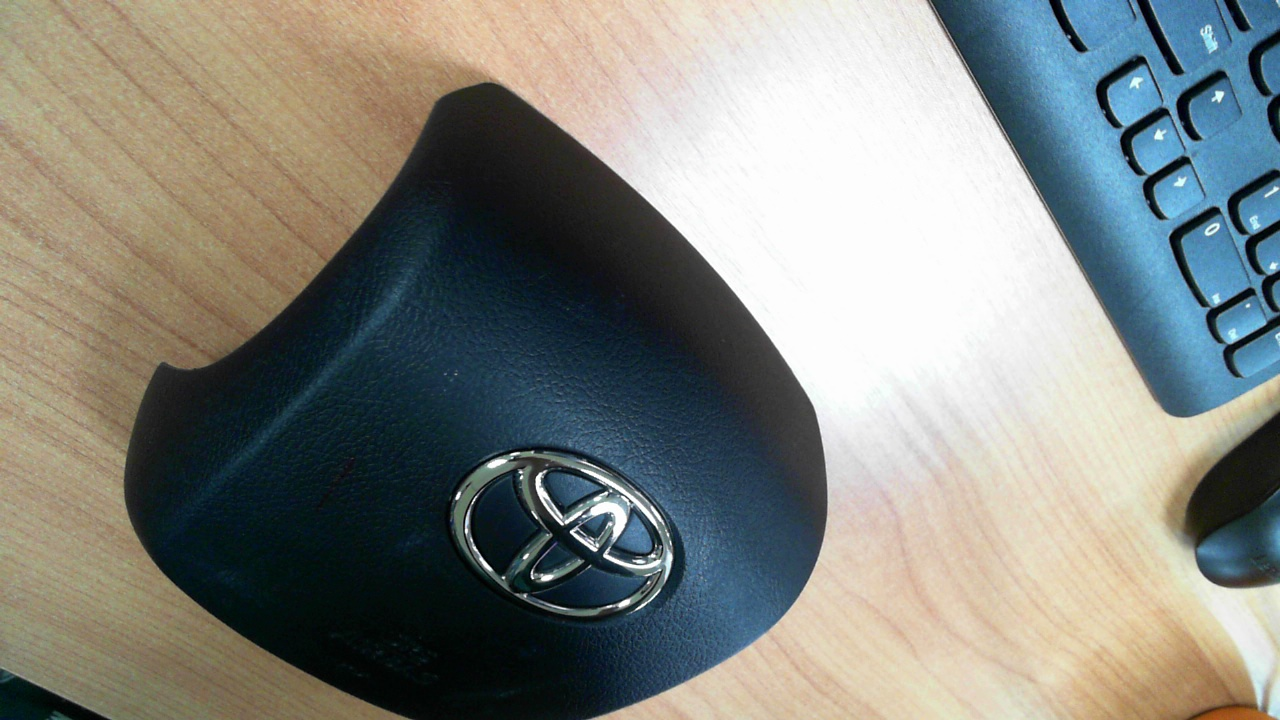Airbag: (123, 82, 829, 718)
Toyota: (453, 450, 674, 617)
